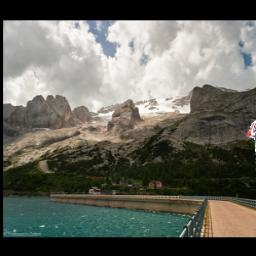Woodpecker: (246, 115, 256, 180)
